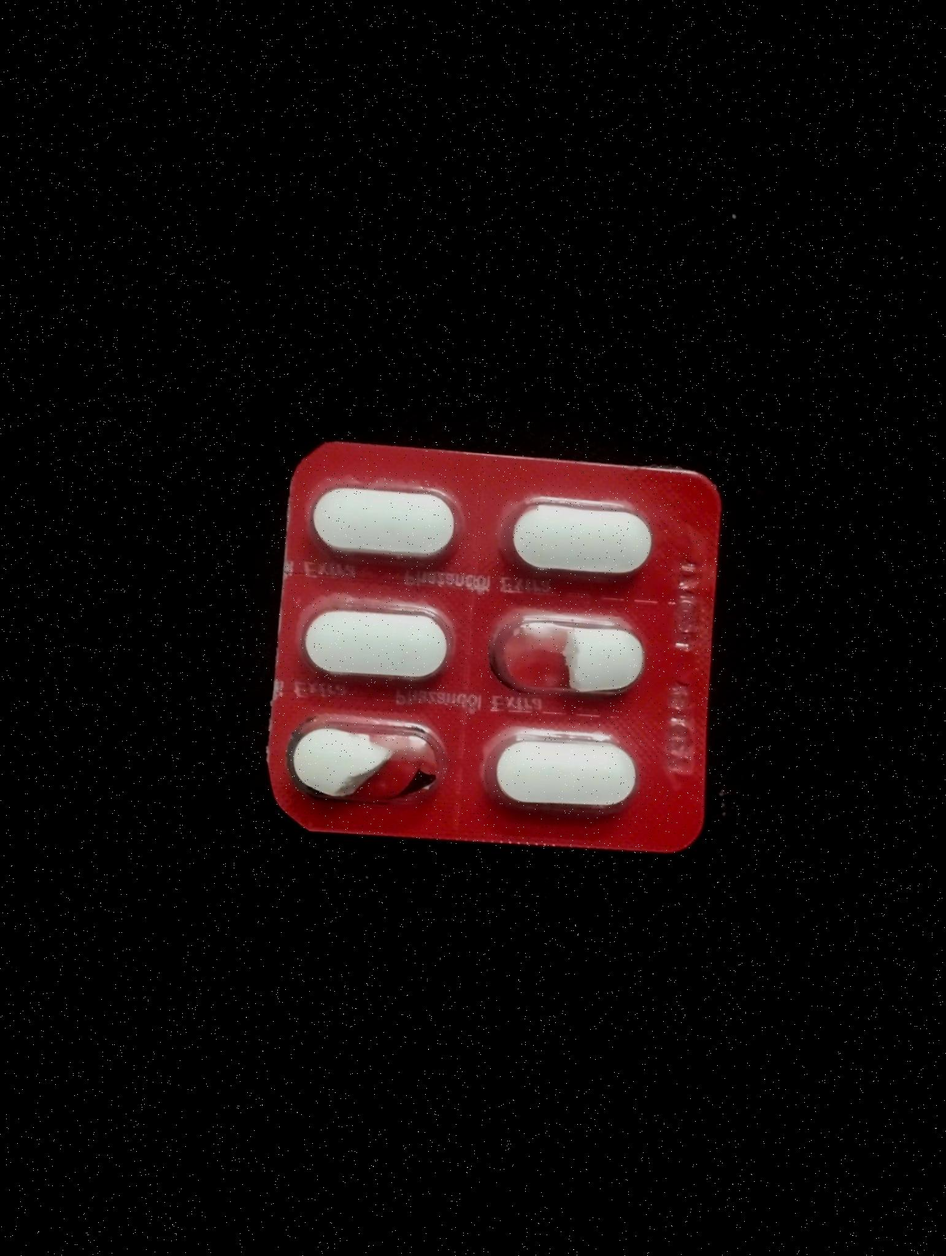Full: (288, 599, 461, 700), (306, 475, 467, 572), (479, 723, 645, 813), (502, 499, 658, 584)
Partial: (289, 711, 447, 818), (491, 607, 645, 707)
